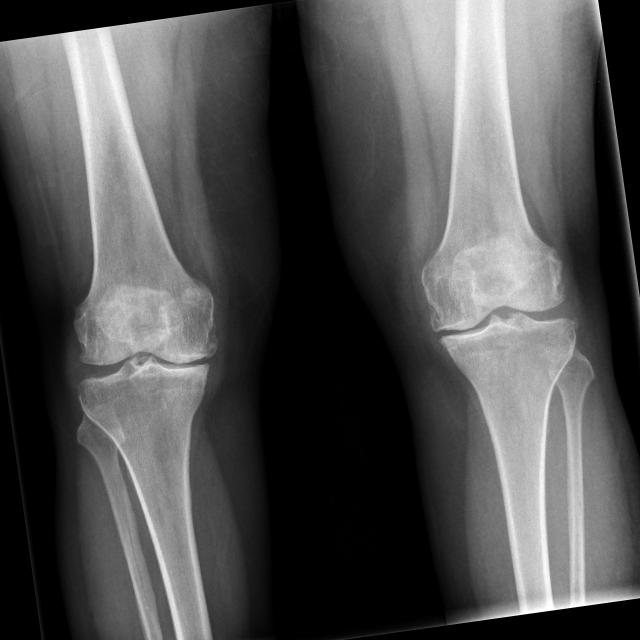Knee: (66, 297, 228, 429), (422, 256, 586, 380)
